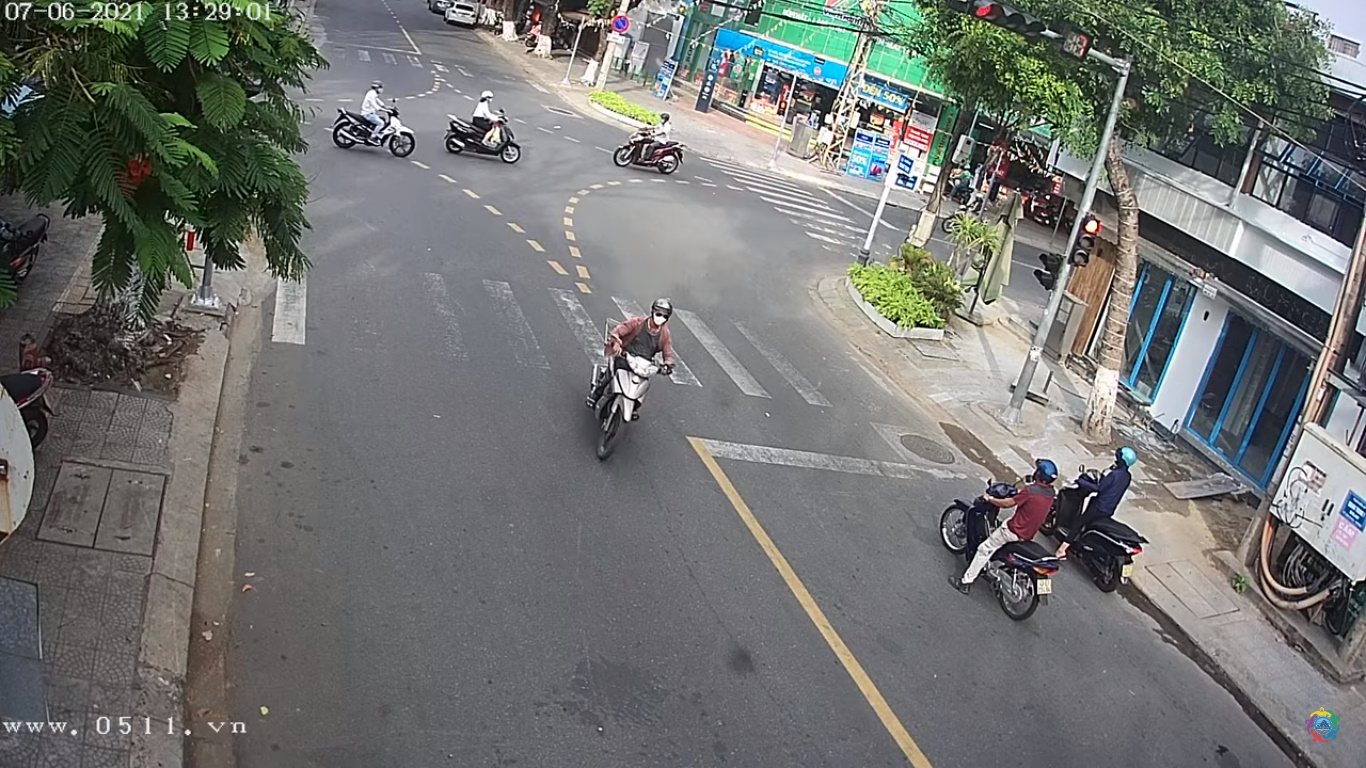motorbike: (587, 329, 678, 465)
